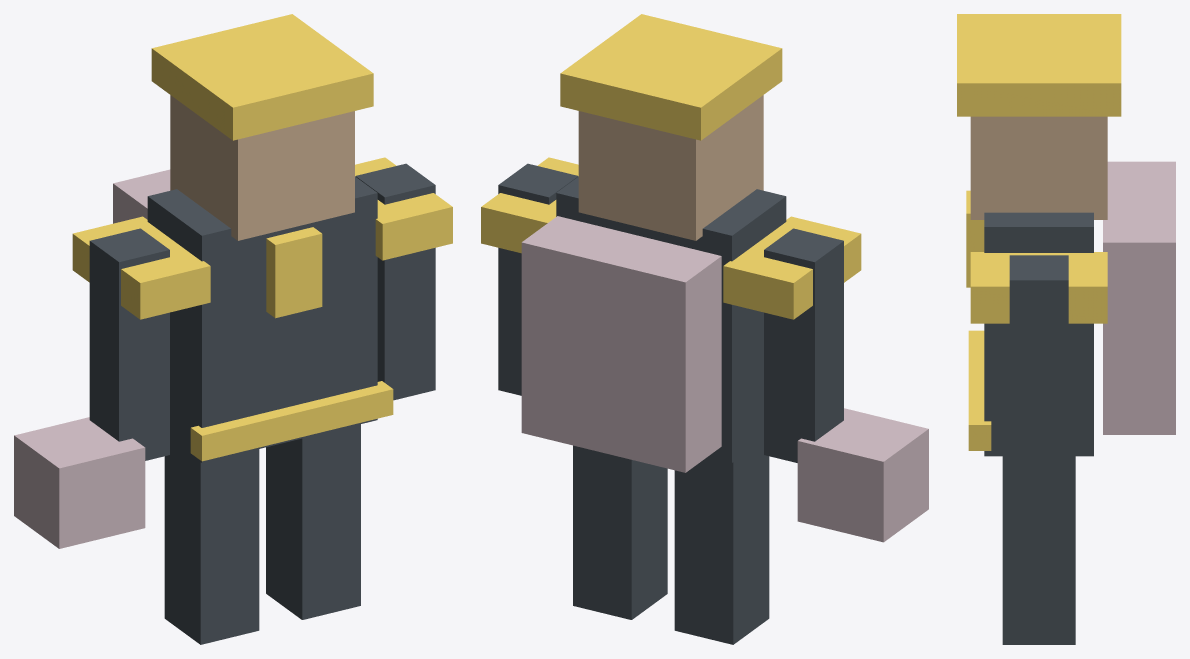
File: 02_eryk_brightlock_broker_of_heat.glb
The picture shows the model from 3 angles, left to right: view 1: azimuth 30°, elevation 25°; view 2: azimuth 150°, elevation 25°; view 3: azimuth 270°, elevation 25°; orthographic projection.
Visible parts, largest first — view 1: Eryk Brightlock, Broker of Heat; view 2: Eryk Brightlock, Broker of Heat; view 3: Eryk Brightlock, Broker of Heat.
Part boxes in pixels (x1,y1,x2,y2): Eryk Brightlock, Broker of Heat: (14, 14, 452, 644); Eryk Brightlock, Broker of Heat: (481, 14, 928, 644); Eryk Brightlock, Broker of Heat: (957, 14, 1175, 644).
Bounding box in the file's own units: 1.02 × 1.39 × 0.4941.
